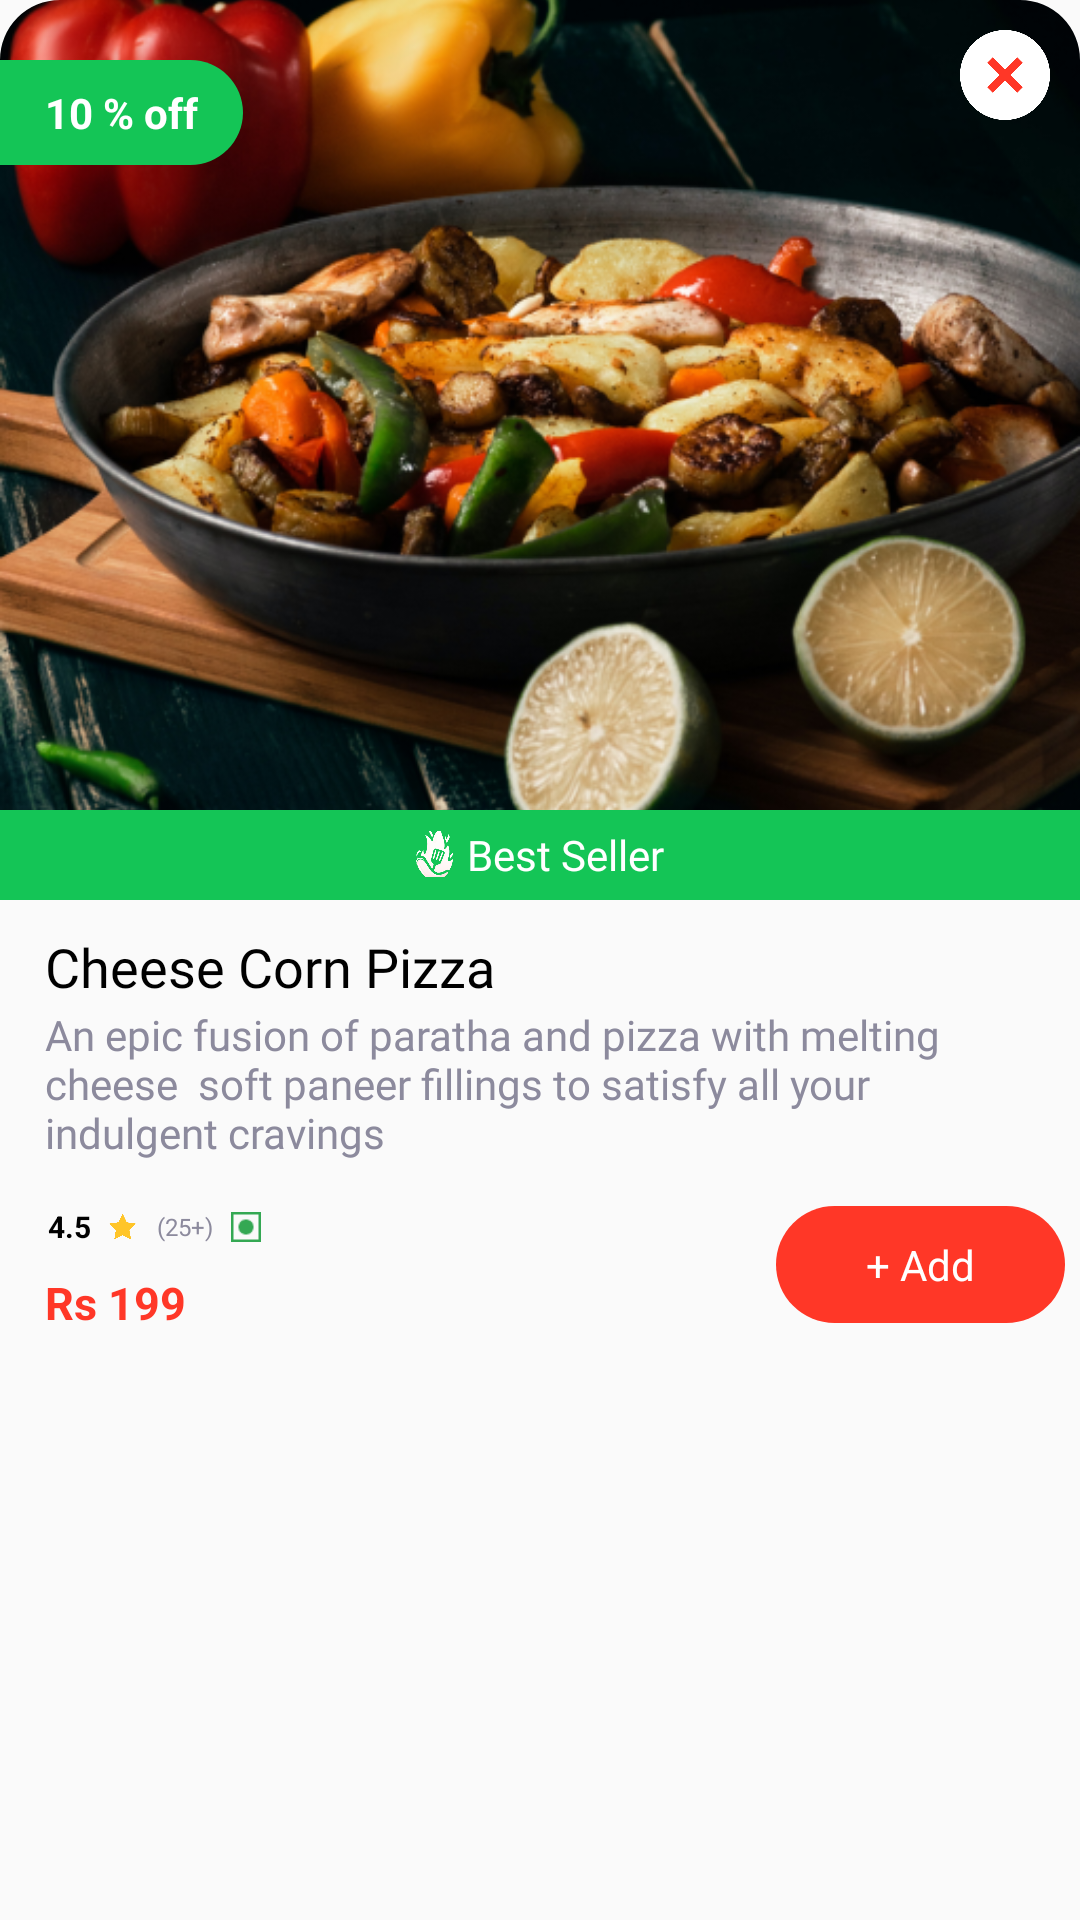

Icons on this 1080x1920 Android screen, each with its box as (x1, y1, x2, y2):
cross: (960, 30, 1050, 120)
star: (110, 1214, 136, 1239)
veg: (231, 1212, 261, 1242)
